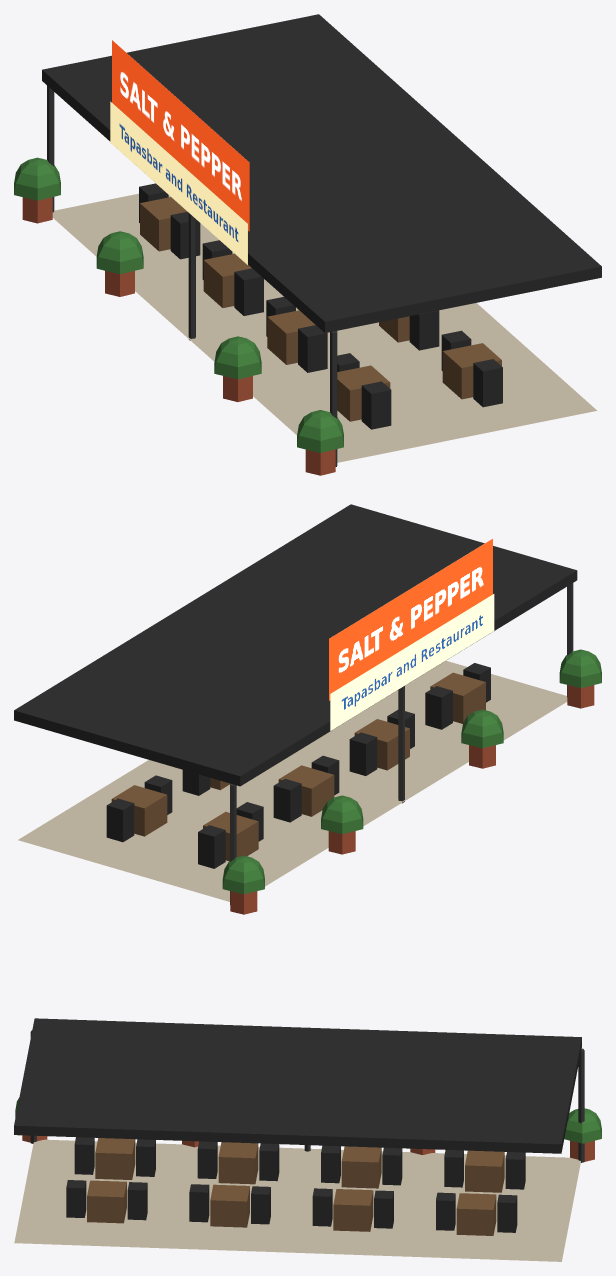
File: saltpepper.glb
3 views of the same model, one above another, from view 1: azimuth 30°, elevation 25°; view 2: azimuth 150°, elevation 25°; view 3: azimuth 270°, elevation 25° (orthographic). The views are drawn at different scales.
Parts seen in each view (by area): view 1: saltpepper_lod0; view 2: saltpepper_lod0; view 3: saltpepper_lod0.
Part boxes in pixels (<box>): saltpepper_lod0: <box>14,14,601,475</box>; saltpepper_lod0: <box>14,504,601,914</box>; saltpepper_lod0: <box>14,1018,601,1261</box>.
Size of what is drawn, in the model's own units: 7.91 by 5.37 by 14.31.
9 materials, 1 textured.
